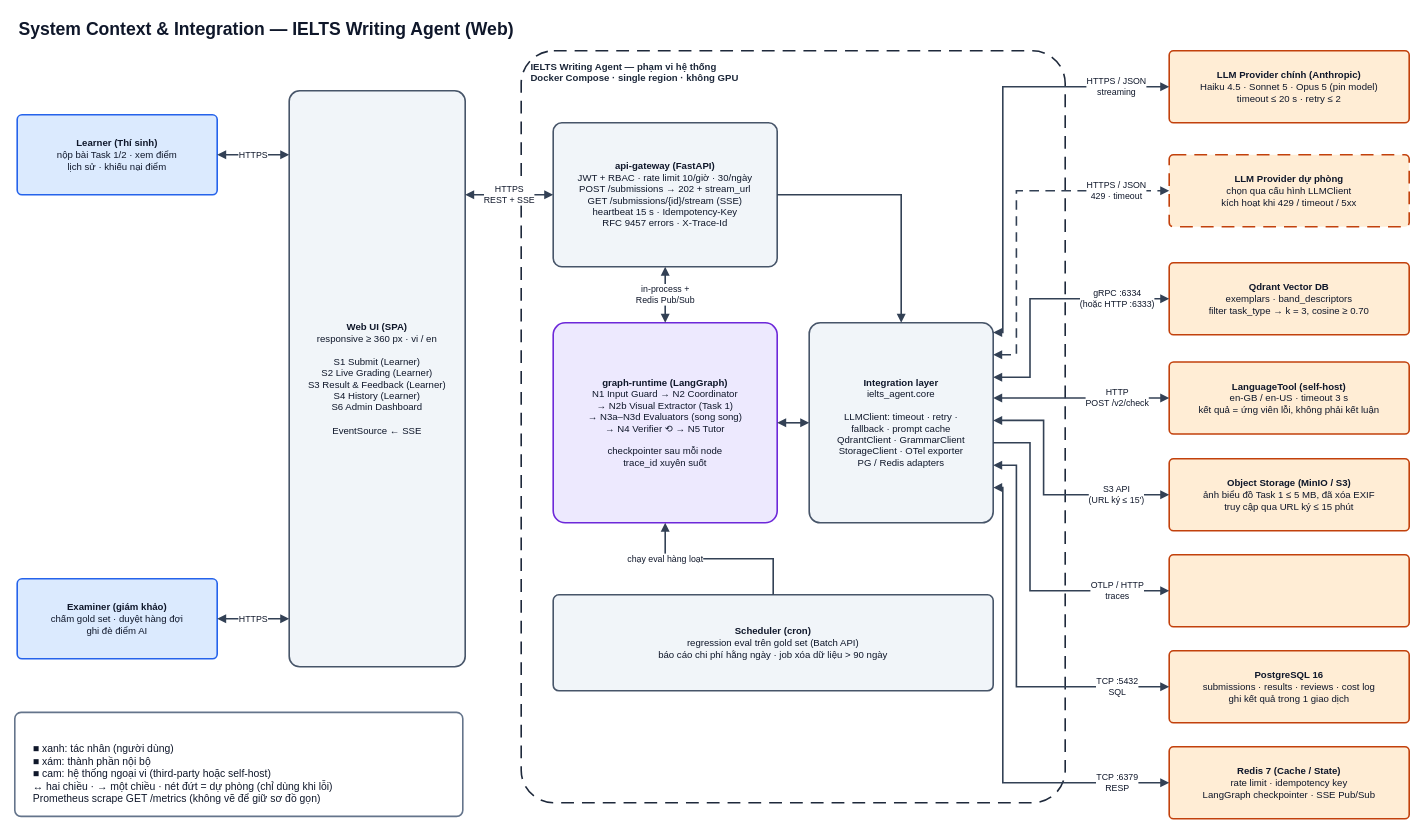
Some shapes in this 1423 by 833 pixel diagram are drawn without their labels. The shapes that lost their labels are listed below. From the top down, each one's box as (x1, y1, x2, y2) in pixels, then its label:
(1168, 554, 1410, 627): LangSmith (Tracing) trace mỗi lần chạy · chi phí · độ trễ trace_id = X-Trace-Id
(14, 711, 463, 817): Chú thích
